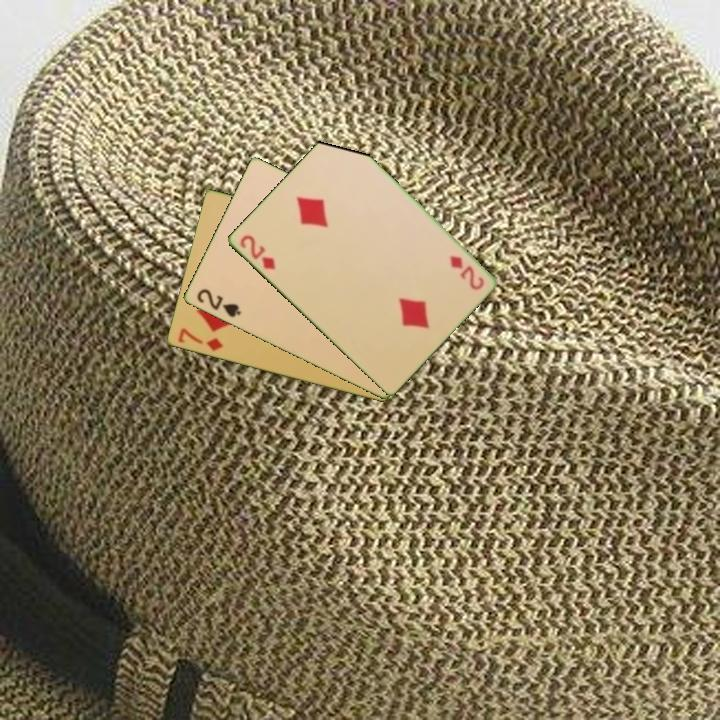2d: (236, 231, 278, 273), (446, 252, 487, 293)
2s: (193, 285, 244, 321)
7d: (174, 325, 226, 354)
